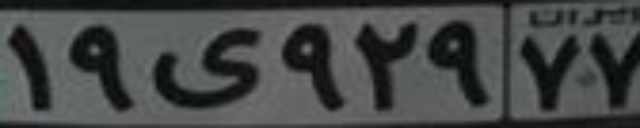1: (5, 22, 62, 111)
2: (355, 21, 414, 114)
7: (516, 29, 574, 110), (584, 28, 638, 107)
9: (276, 24, 346, 111), (68, 22, 131, 110), (425, 19, 489, 103)
ye: (144, 26, 264, 108)
